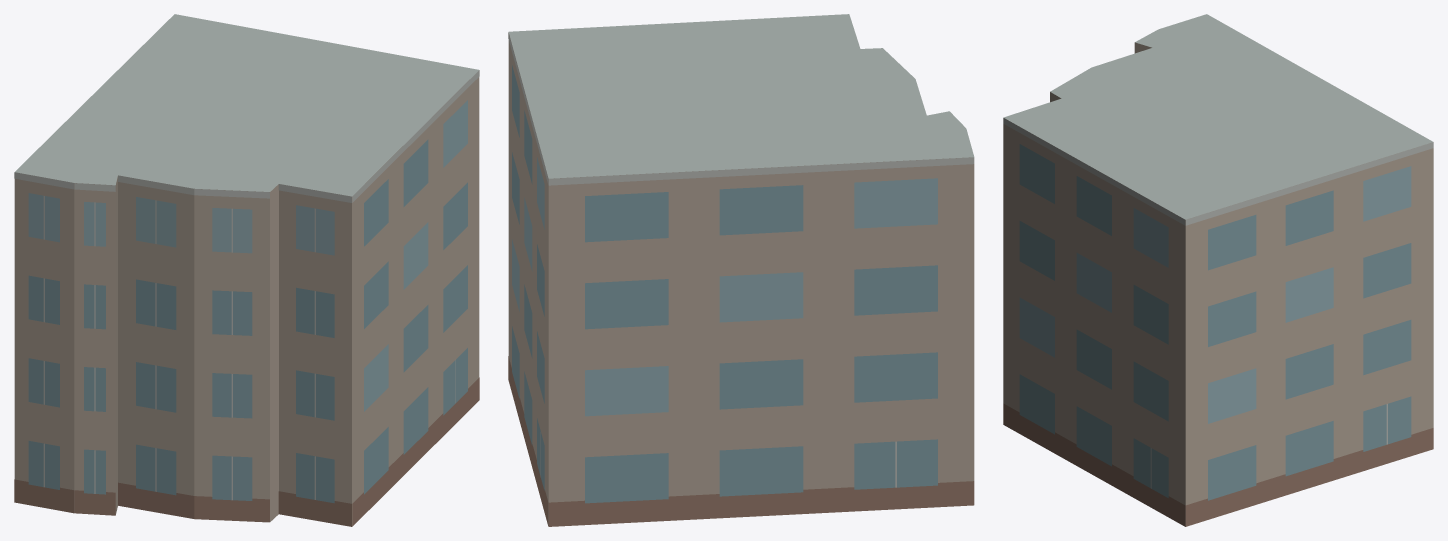
Rendered from survey-upis-32520951.glb.
3 renders of one model, left to right at view 1: azimuth 30°, elevation 25°; view 2: azimuth 150°, elevation 25°; view 3: azimuth 270°, elevation 25°, orthographic. The views are drawn at different scales.
Parts seen in each view (by area): view 1: survey-upis-32520951.tmp; view 2: survey-upis-32520951.tmp; view 3: survey-upis-32520951.tmp.
Boxes of the visible parts, <box> form: survey-upis-32520951.tmp: <box>14,14,479,526</box>; survey-upis-32520951.tmp: <box>508,14,974,526</box>; survey-upis-32520951.tmp: <box>1003,14,1433,526</box>.
Bounding box in the file's own units: 17.68 × 12.3 × 15.63.
